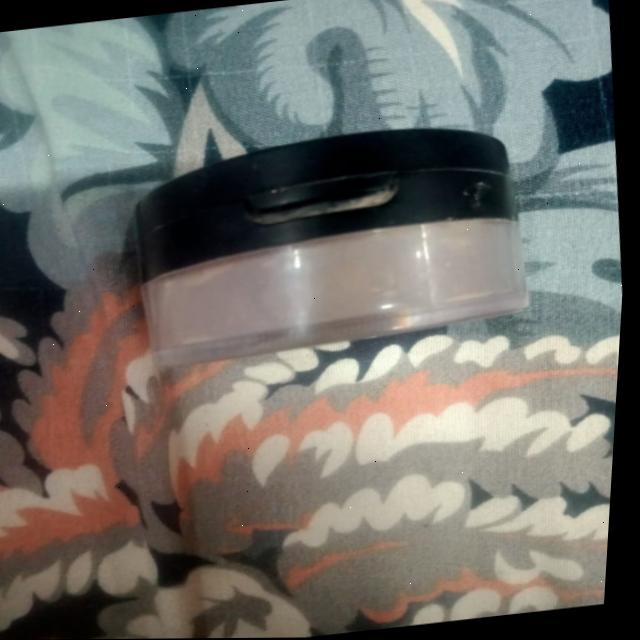blush: (107, 126, 560, 368)
